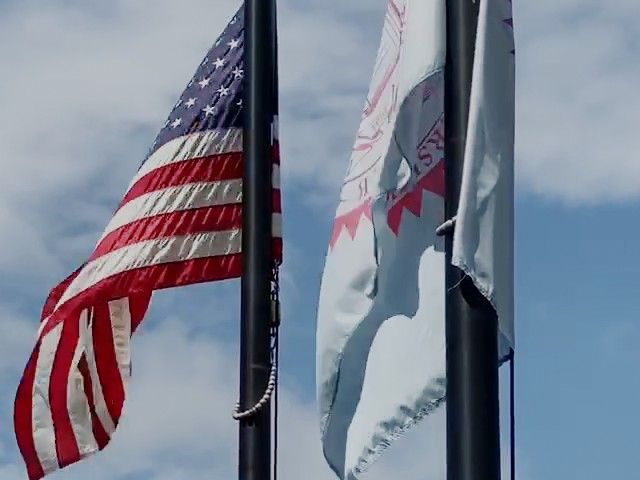America flag: (20, 2, 242, 479)
